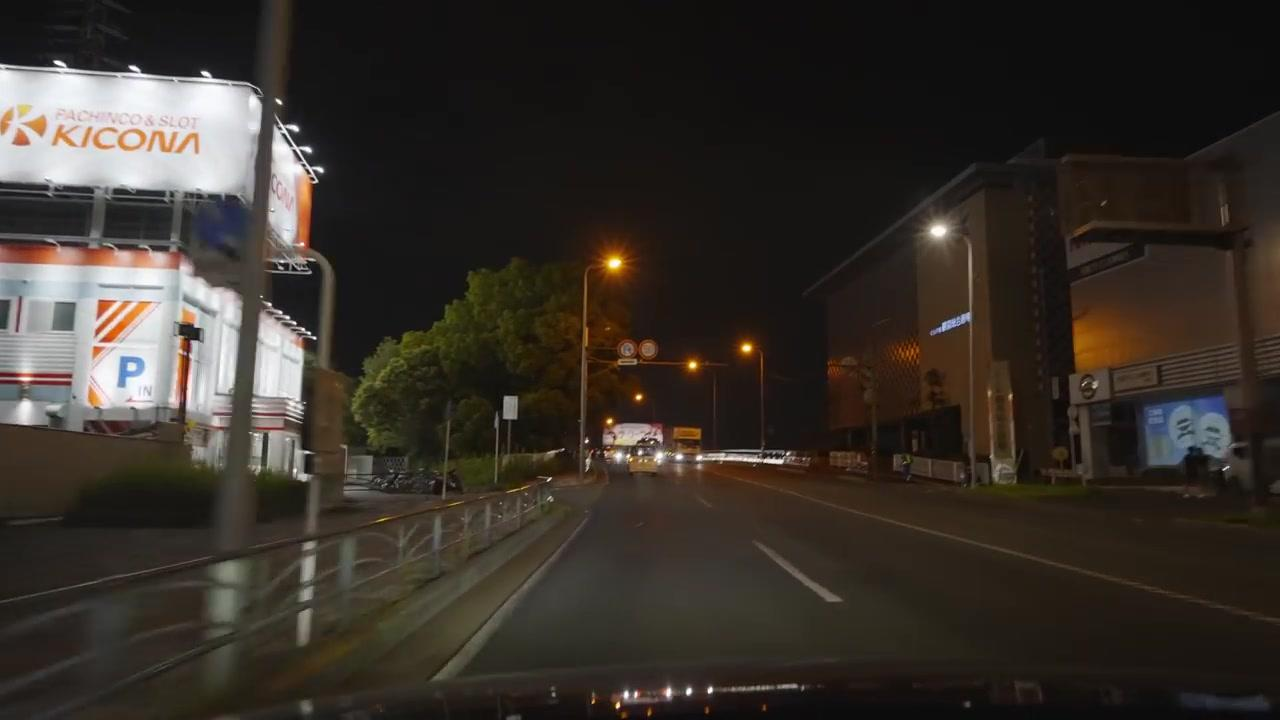car: (1214, 438, 1280, 495), (628, 445, 661, 474)
